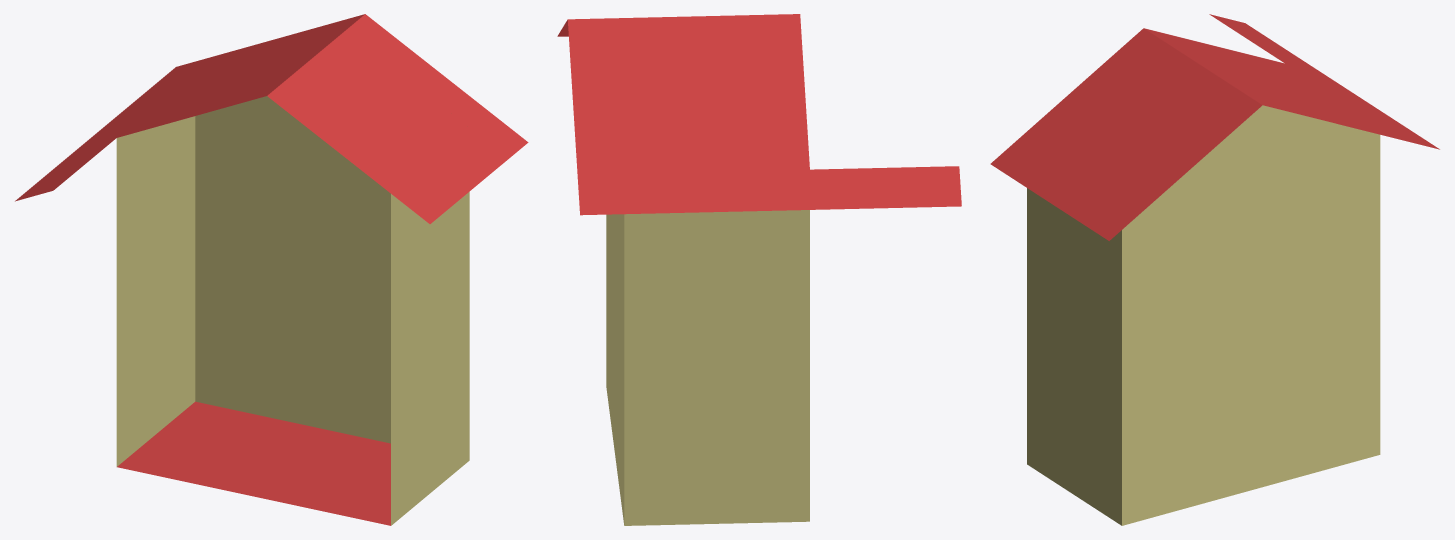
3 renders of one model, left to right at view 1: azimuth 30°, elevation 25°; view 2: azimuth 150°, elevation 25°; view 3: azimuth 270°, elevation 25°, orthographic. The views are drawn at different scales.
Size of the model in its own units: 8.84 by 7.72 by 7.64.
